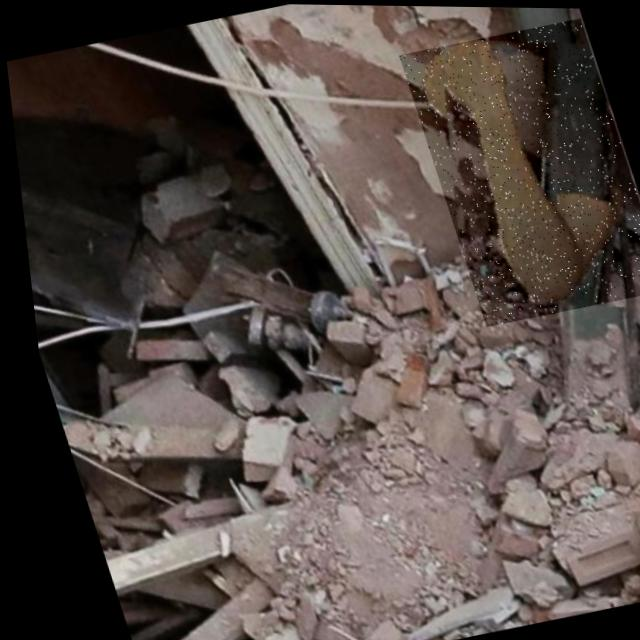Person in Rubble: (394, 14, 640, 327)
